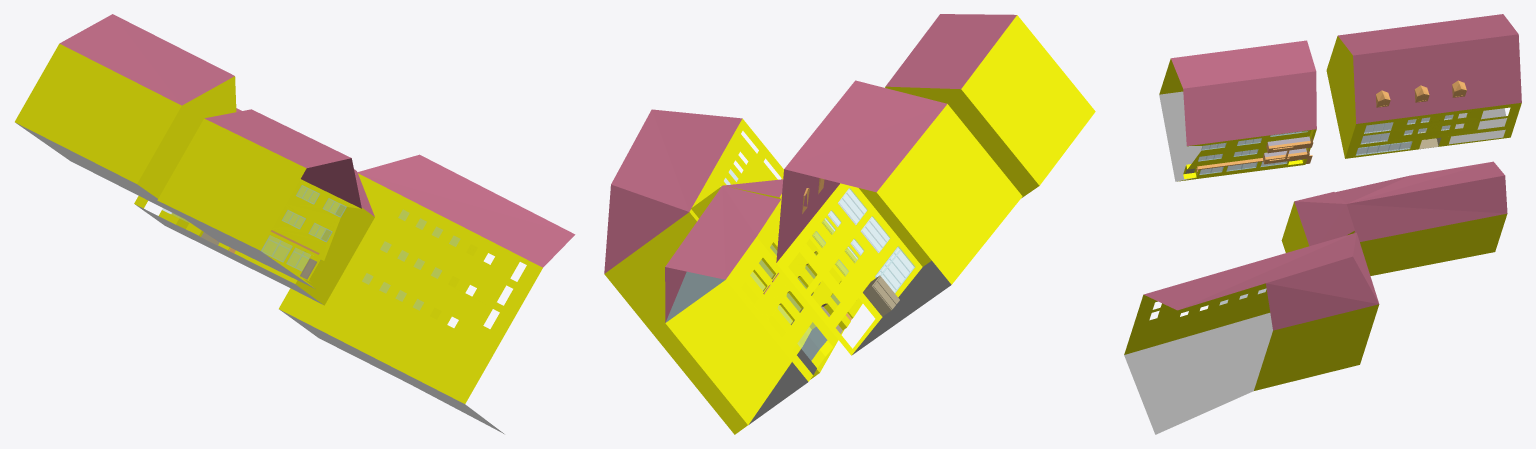
3 renders of one model, left to right at view 1: azimuth 30°, elevation 25°; view 2: azimuth 150°, elevation 25°; view 3: azimuth 270°, elevation 25°, orthographic. The views are drawn at different scales.
Visible parts, largest first — view 1: mesh; view 2: mesh; view 3: mesh.
Part boxes in pixels (left/top/right/bottom): mesh: left=15, top=14, right=575, bottom=434; mesh: left=604, top=14, right=1095, bottom=434; mesh: left=1124, top=14, right=1521, bottom=434.
Bounding box in the file's own units: 44.5 × 35.46 × 41.4.
